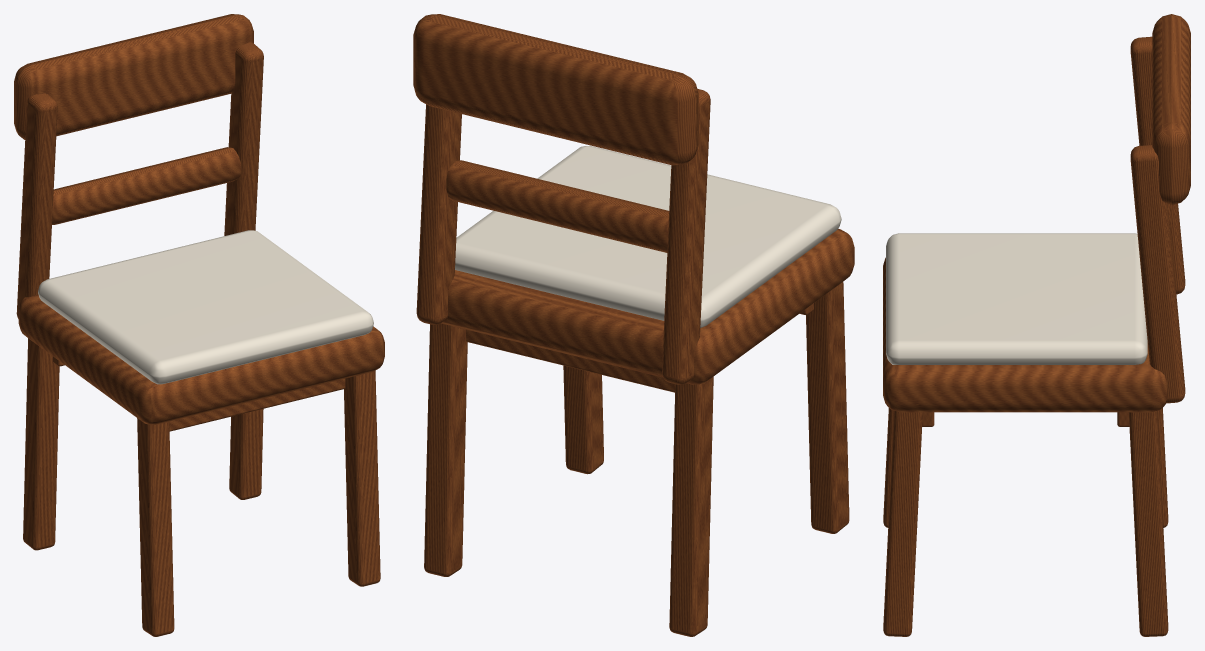
Rendered from Chair.fbx.
The picture shows the model from 3 angles, left to right: view 1: azimuth 30°, elevation 25°; view 2: azimuth 150°, elevation 25°; view 3: azimuth 270°, elevation 25°; orthographic projection. The views are drawn at different scales.
Visible parts, largest first — view 1: chair_mesh; view 2: chair_mesh; view 3: chair_mesh.
Boxes of the visible parts, <box> form: chair_mesh: <box>14,14,384,636</box>; chair_mesh: <box>413,14,854,636</box>; chair_mesh: <box>883,14,1190,636</box>.
Bounding box in the file's own units: 0.51 × 0.9449 × 0.5175.
2 materials, 1 textured.
